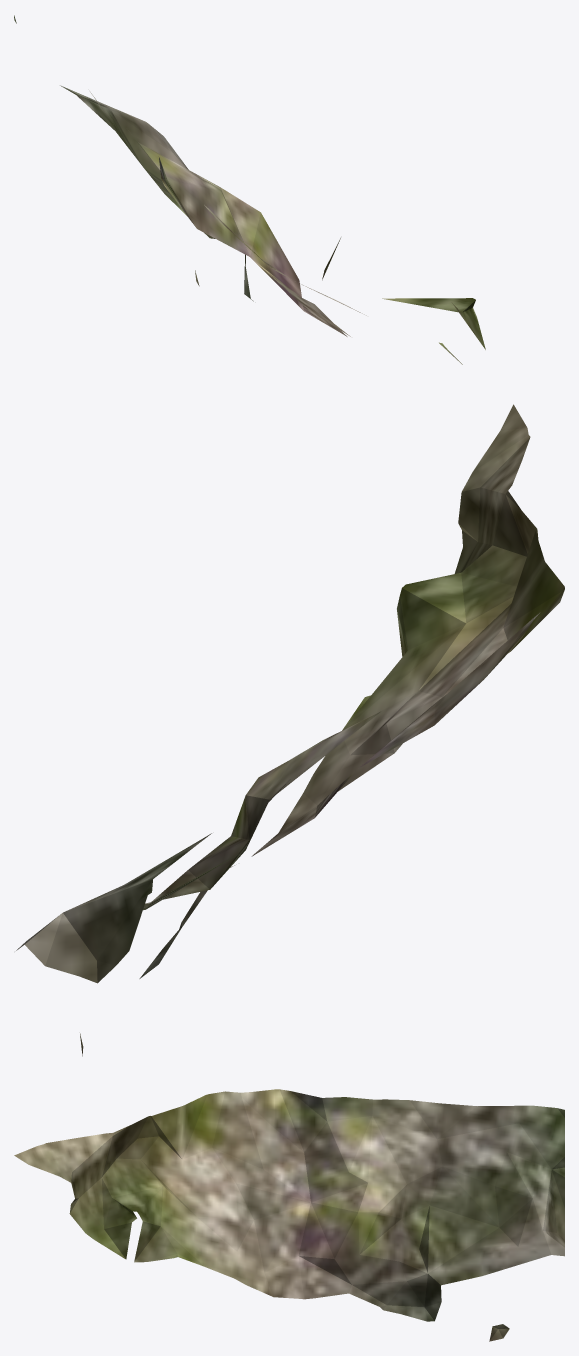
3 views of the same model, one above another, from view 1: azimuth 30°, elevation 25°; view 2: azimuth 150°, elevation 25°; view 3: azimuth 270°, elevation 25° (orthographic). The views are drawn at different scales.
Bounding box in the file's own units: 0.5161 × 0.6767 × 1.82.
Materials: 1 (1 with a texture image).
